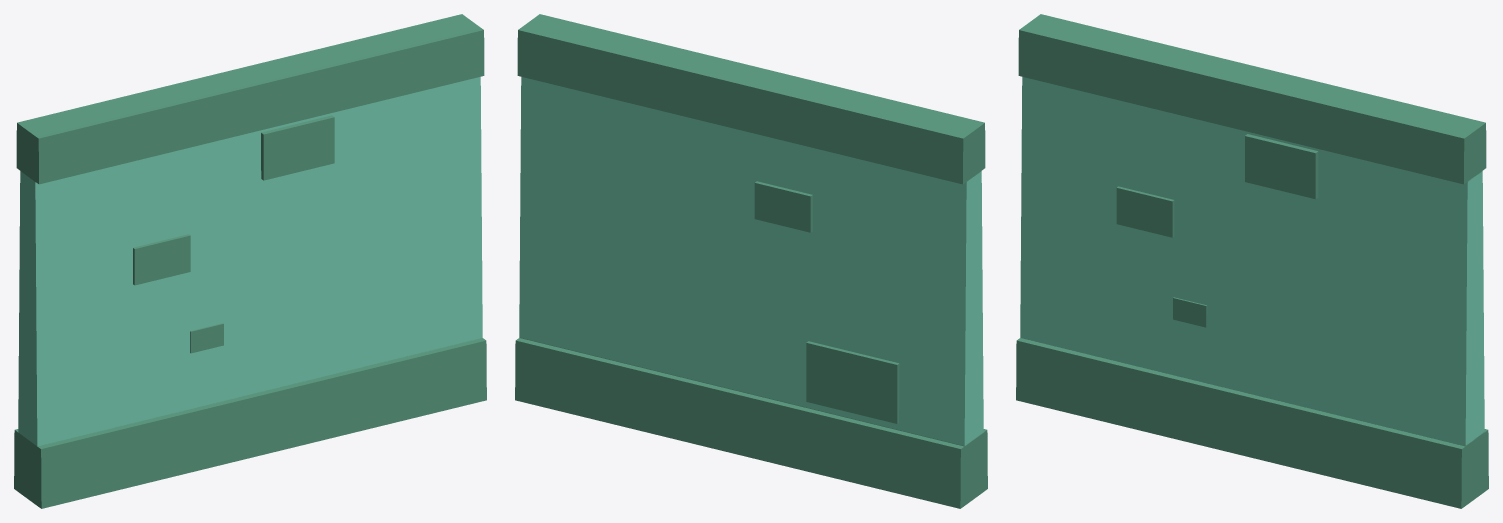
The model's file is wall2.fbx.
3 renders of one model, left to right at view 1: azimuth 30°, elevation 25°; view 2: azimuth 150°, elevation 25°; view 3: azimuth 330°, elevation 25°, orthographic.
Visible parts, largest first — view 1: wall1; view 2: wall1; view 3: wall1.
Boxes of the visible parts, x1,y1,x2,y2 form: wall1: (14,14,486,508); wall1: (515,14,987,508); wall1: (1016,14,1488,508).
Size of the model in its own units: 4.6 by 3.64 by 0.4923.
